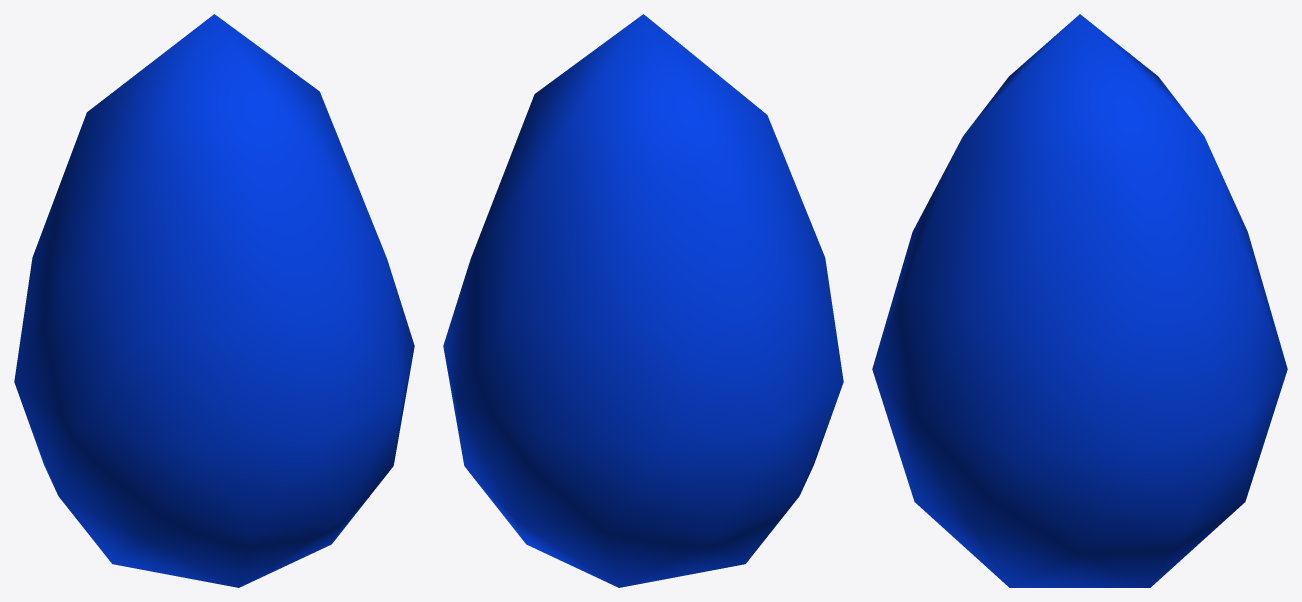
The model's file is tears.fbx.
3 views of the same model, side by side, from view 1: azimuth 30°, elevation 25°; view 2: azimuth 150°, elevation 25°; view 3: azimuth 270°, elevation 25° (orthographic).
Parts seen in each view (by area): view 1: tears; view 2: tears; view 3: tears.
Boxes of the visible parts, x1=… form: tears: x1=14, y1=14, x2=414, y2=587; tears: x1=443, y1=14, x2=843, y2=587; tears: x1=872, y1=14, x2=1287, y2=587.
Bounding box in the file's own units: 1.74 × 2.73 × 1.83.
